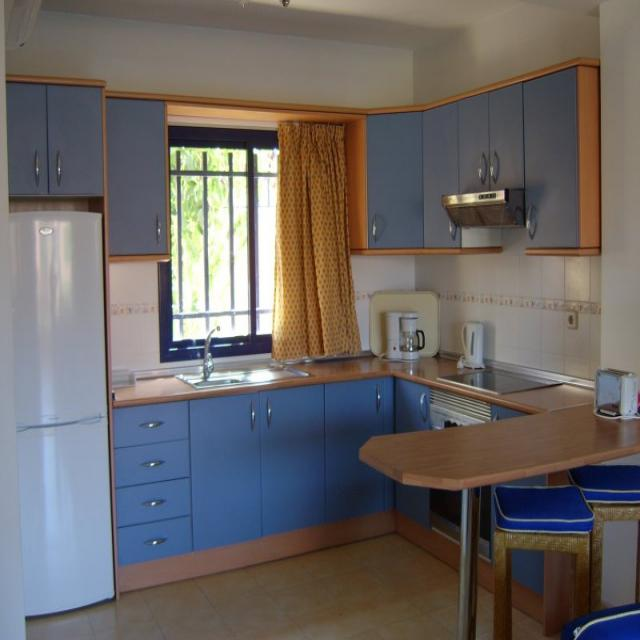2001: (167, 138, 314, 351)
ceiling beam: (2, 3, 599, 51)
coffee marker occluded: (383, 305, 420, 359)
cupboard crop: (519, 61, 599, 250), (4, 78, 100, 199), (103, 87, 169, 260)
cupboards: (113, 375, 394, 597), (339, 82, 519, 254)
curtain crop: (273, 117, 364, 355)
extractor hood: (442, 186, 524, 229)
faucet handle: (202, 324, 220, 373)
floor -X: (1, 469, 636, 637)
fridge crop: (12, 206, 116, 621)
open plan: (355, 399, 636, 639)
oven range: (423, 388, 489, 548)
sink basin: (176, 366, 257, 388)
stove burner: (438, 366, 557, 397)
tabouret: (573, 467, 636, 614)
tabouret occluded: (493, 481, 593, 639)
wall clock: (2, 3, 423, 556), (415, 32, 599, 583), (598, 5, 636, 587)
